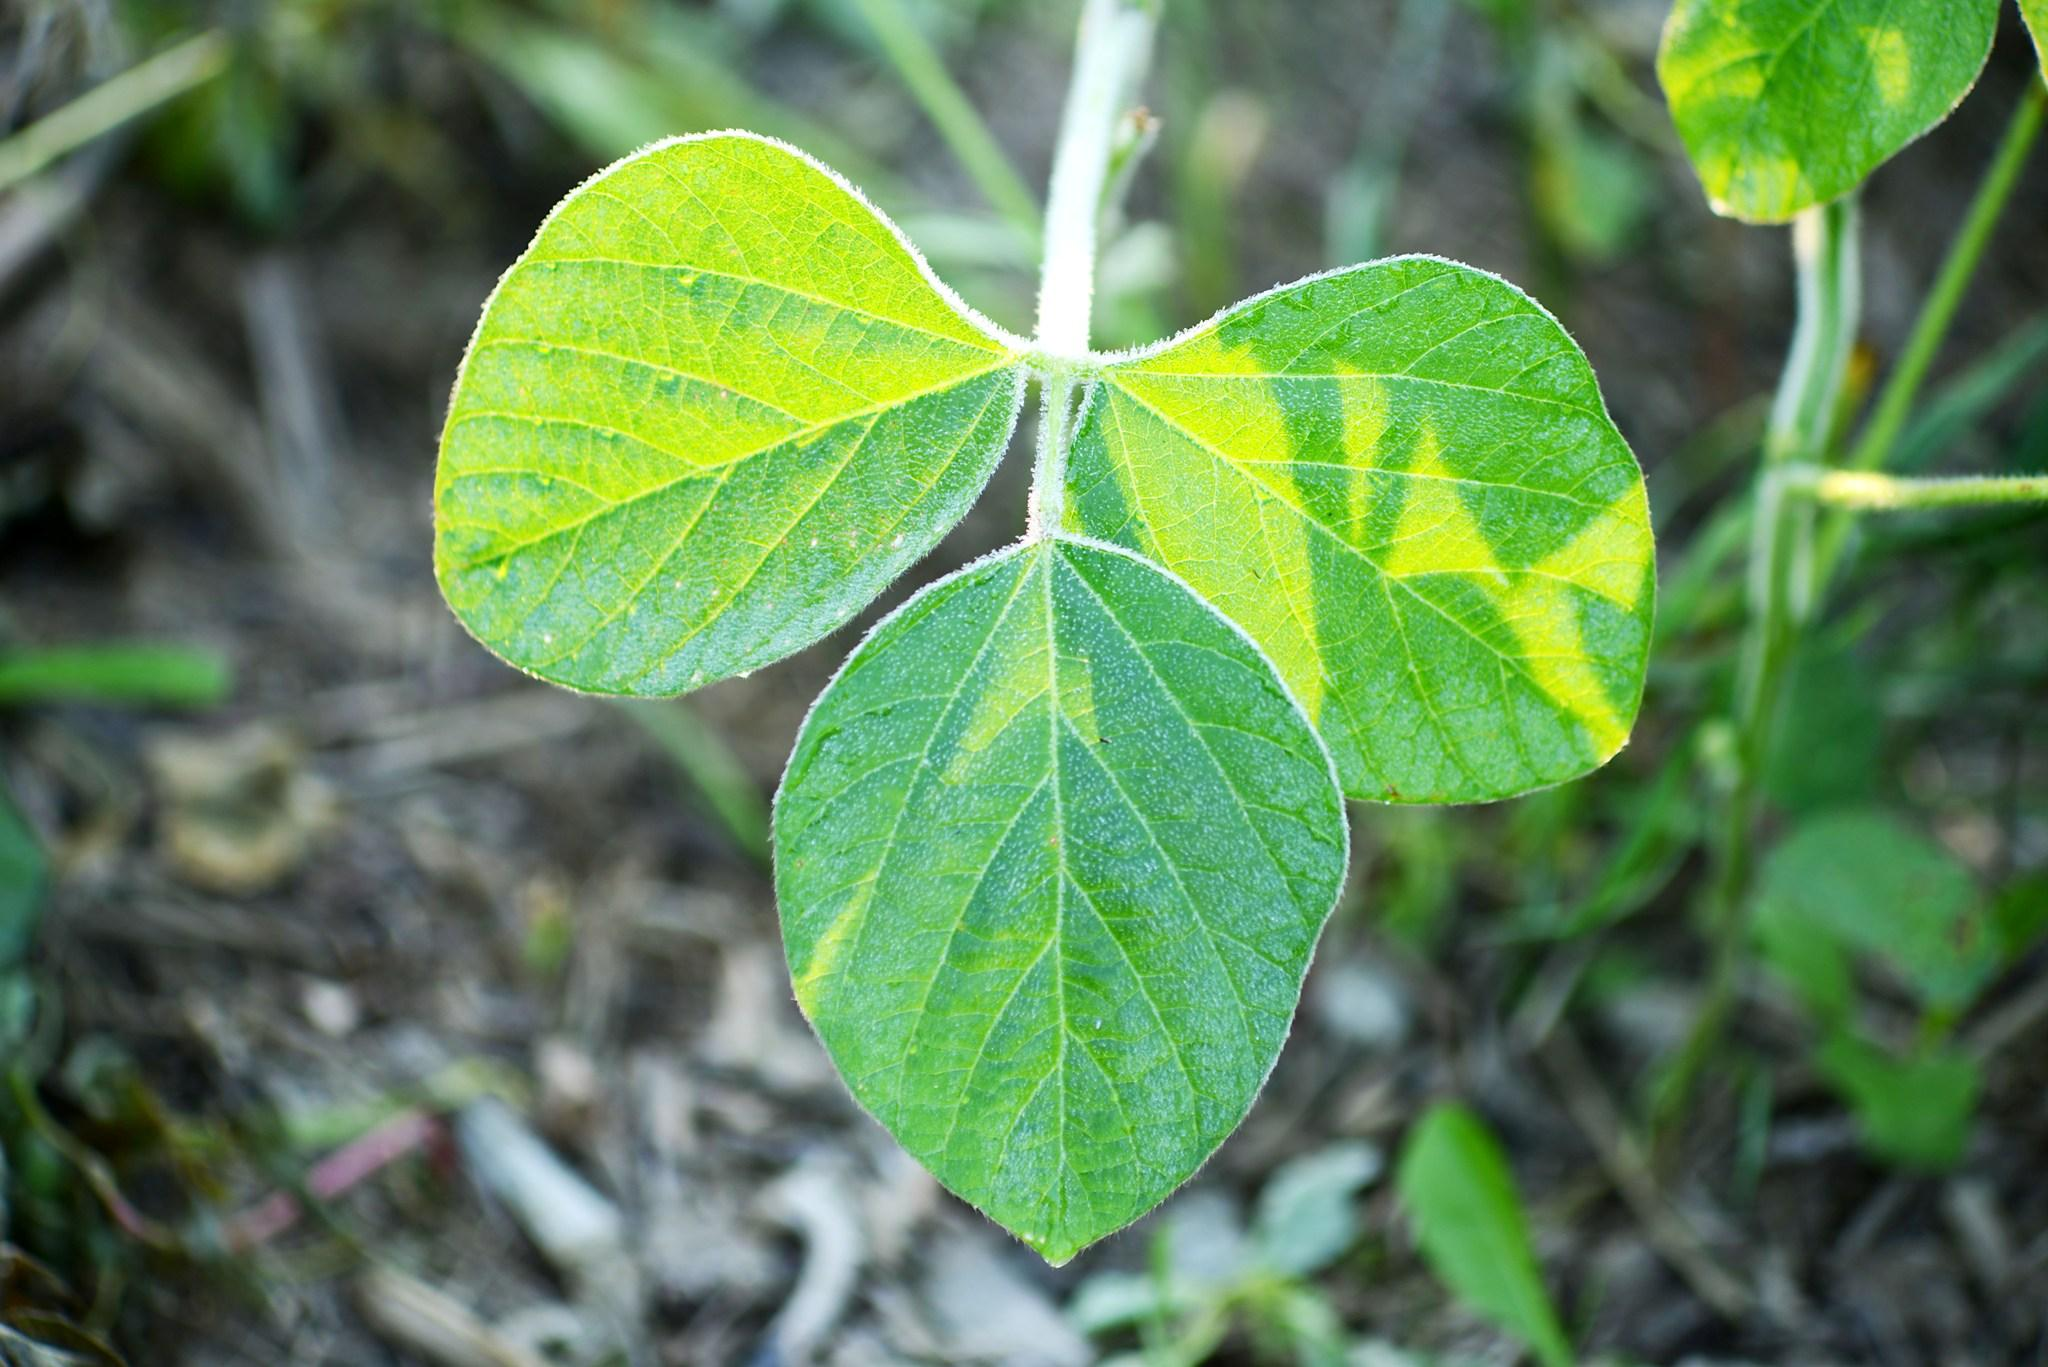Soyabean leaf: (762, 523, 1354, 1280), (419, 124, 1032, 700), (1058, 240, 1662, 806)
